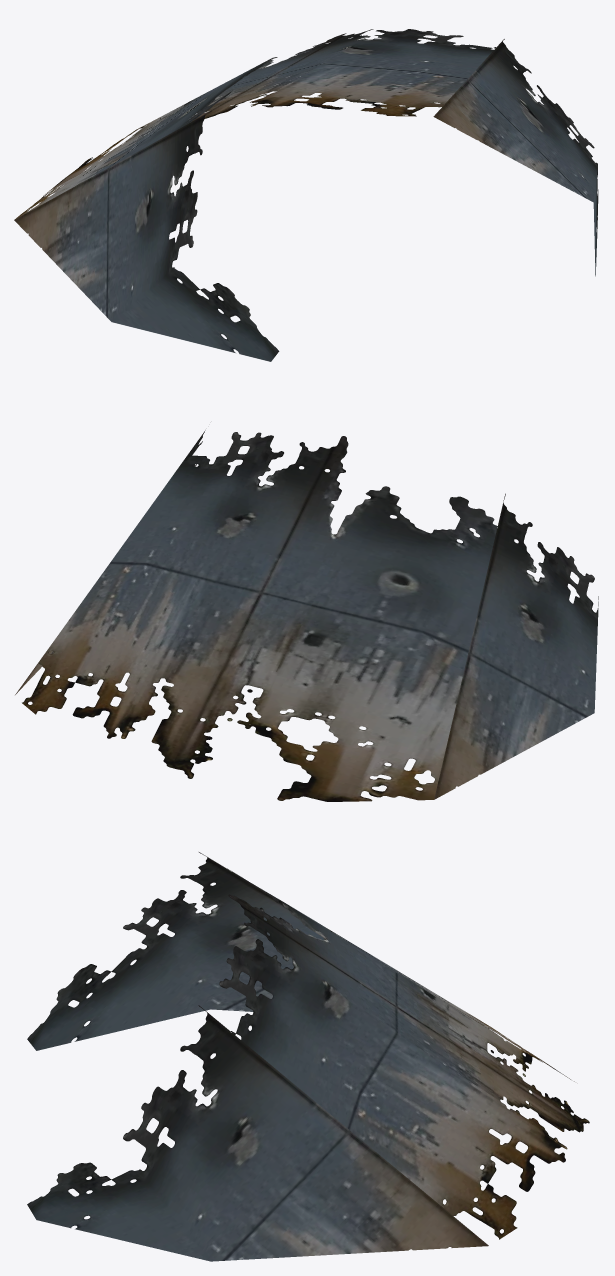
Rendered from crashtail_dam_hdtex.glb.
3 renders of one model, top to bottom at view 1: azimuth 30°, elevation 25°; view 2: azimuth 150°, elevation 25°; view 3: azimuth 270°, elevation 25°, orthographic. The views are drawn at different scales.
Visible parts, largest first — view 1: Crash Tail; view 2: Crash Tail; view 3: Crash Tail.
Part boxes in pixels (bbox=[...]): Crash Tail: bbox=[14, 29, 598, 361]; Crash Tail: bbox=[15, 430, 598, 801]; Crash Tail: bbox=[27, 852, 589, 1261].
Size of the model in its own units: 29.58 by 14.37 by 28.87.
Materials: 1 (1 with a texture image).
